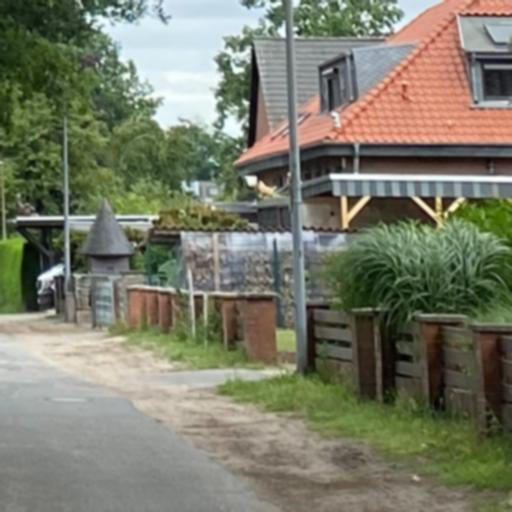tree: (1, 1, 173, 201), (212, 1, 405, 137)
